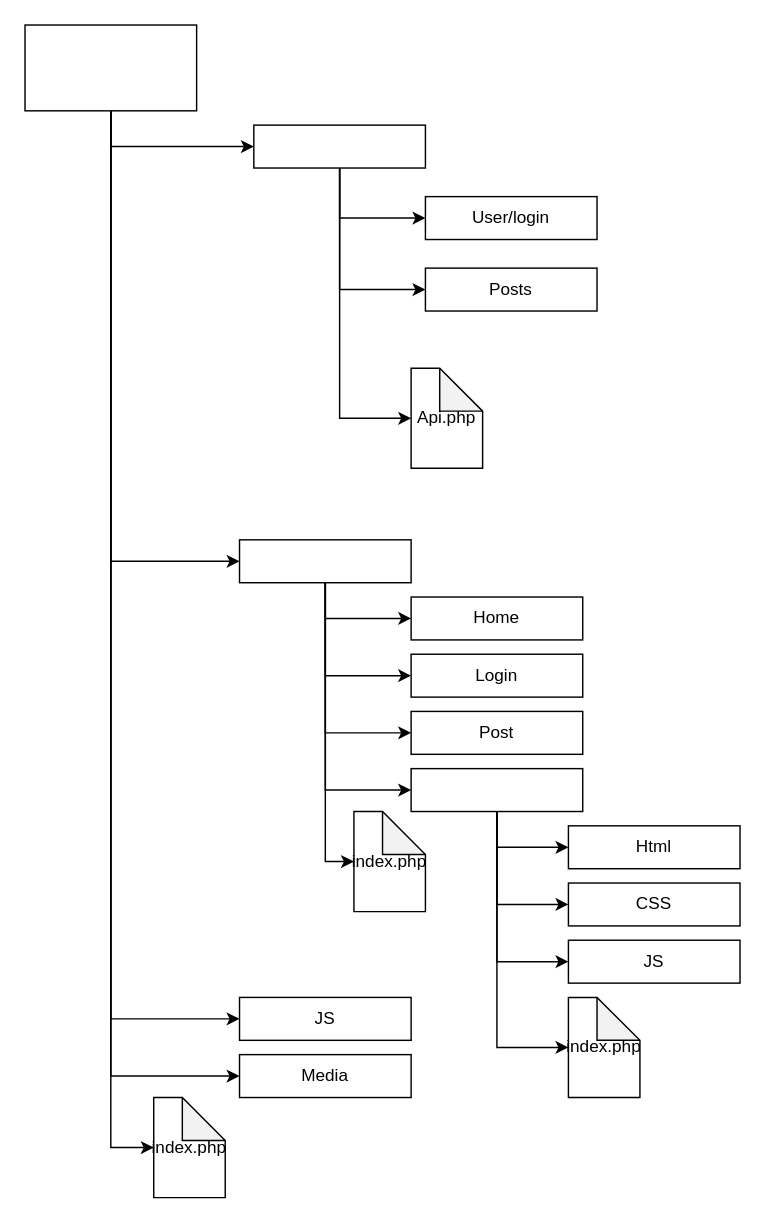
Some shapes in this 765 by 1223 pixel diagram are drawn without their labels. Here are the shapes that lost their labels. From the top down, the centre of each, then its label:
the point at 110,67: WWW
the point at 338,146: API
the point at 324,560: Sites
the point at 496,789: Profile
